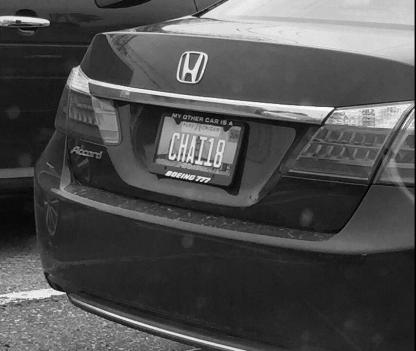license plate: (148, 98, 250, 199)
